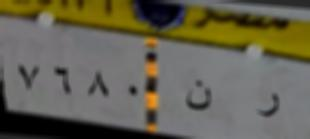0: (125, 80, 140, 104)
6: (50, 61, 75, 101)
7: (14, 58, 42, 98)
8: (84, 68, 112, 104)
noon: (180, 73, 215, 119)
raa: (255, 83, 282, 125)
